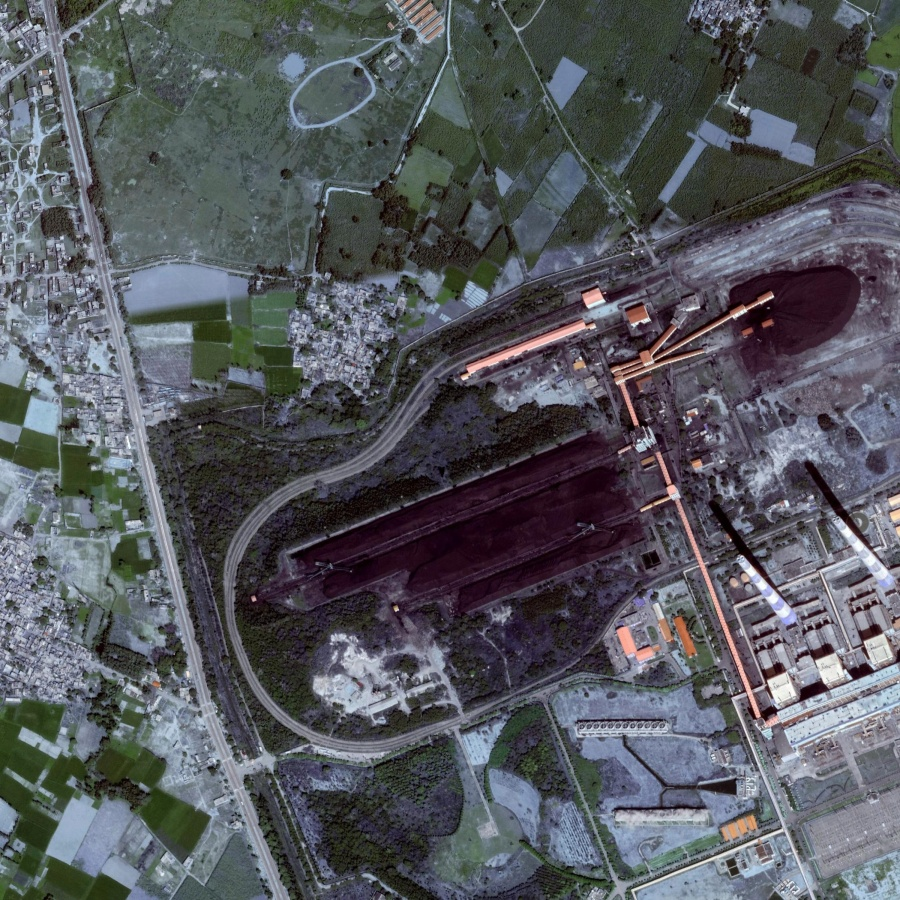PowerPlant: (248, 230, 856, 739)
